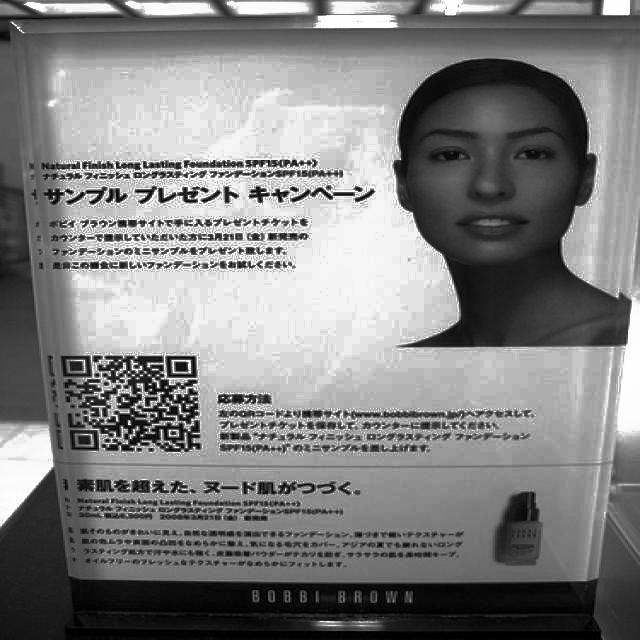qr_code: (62, 356, 200, 452)
